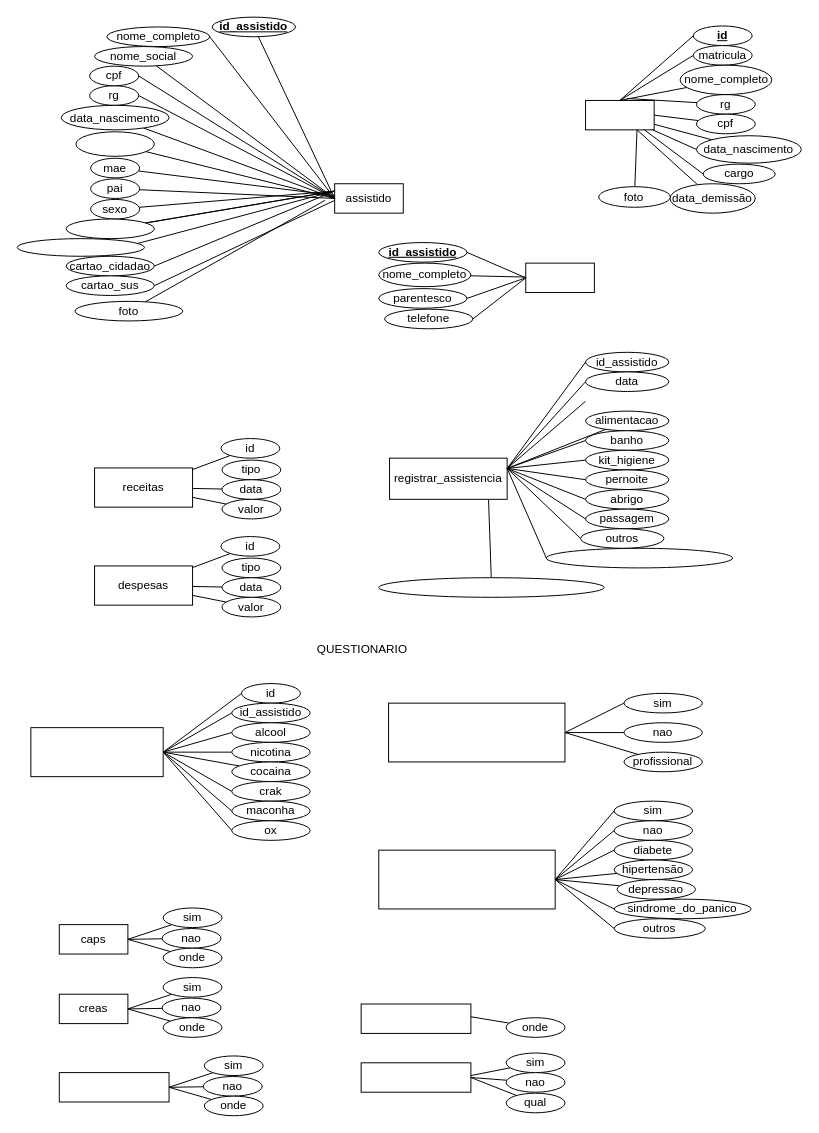
This 819x1133 diagram has some shape labels left out. Here are the shapes that lost their labels. From the top down, the box of each, then its label:
(585, 99, 654, 130): funcionario
(75, 131, 154, 156): estado_civil
(16, 238, 145, 256): numero_de_filhos
(65, 218, 154, 239): naturalidade
(525, 262, 594, 293): familiar
(545, 547, 733, 568): encaminhamento_para_rede
(378, 577, 604, 597): preencher_atualizar_questionario
(30, 727, 163, 777): substancia_psicoativa
(388, 702, 565, 762): acompanhamento_pisiquiatrico
(378, 849, 555, 909): problema_de_saude
(360, 1003, 471, 1033): epacao_de_saude
(58, 1072, 169, 1102): programas_sociais
(360, 1062, 471, 1092): recebe_beneficio
